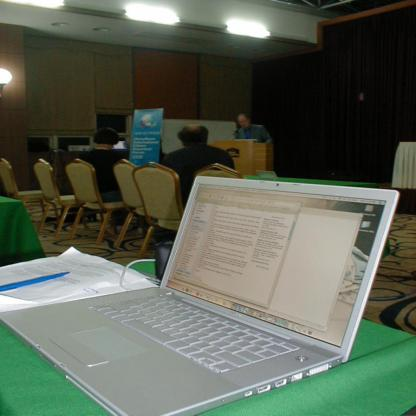board: (0, 174, 398, 415)
